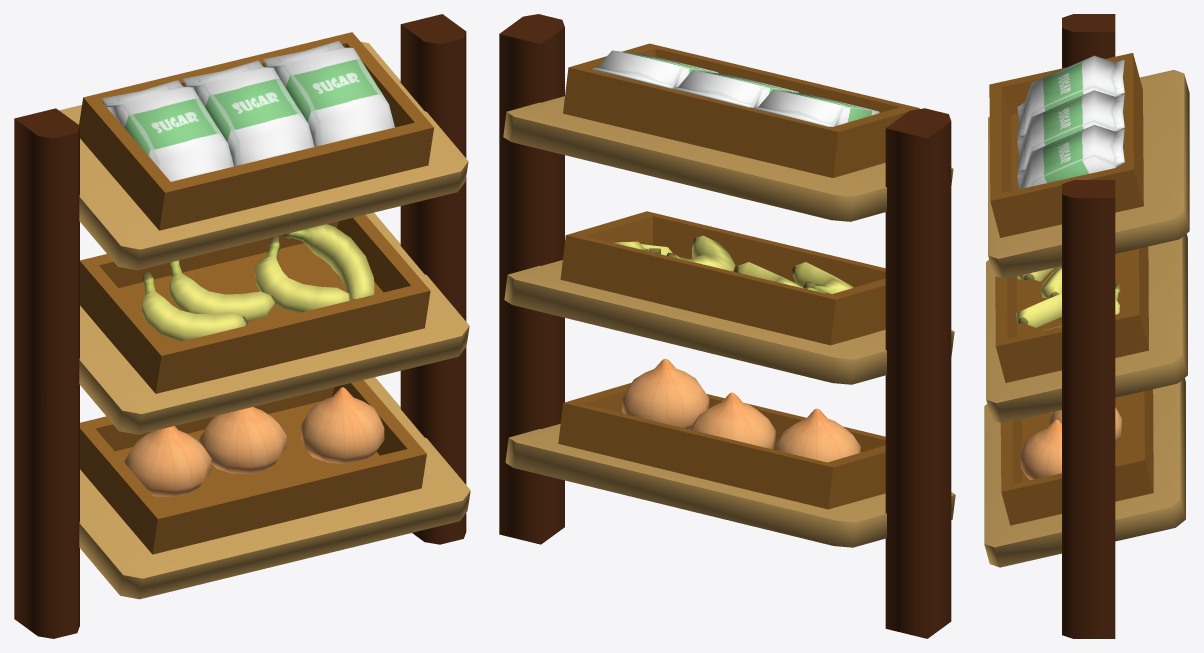
Rendered from storage_banana_sugar_onion.fbx.
The picture shows the model from 3 angles, left to right: view 1: azimuth 30°, elevation 25°; view 2: azimuth 150°, elevation 25°; view 3: azimuth 270°, elevation 25°; orthographic projection. The views are drawn at different scales.
Visible parts, largest first — view 1: Cube.067, sugar, onion.002, banana2; view 2: Cube.067, onion.002, sugar, banana2; view 3: Cube.067, sugar, onion.002, banana2.
Boxes of the visible parts, bbox=[...] form: Cube.067: bbox=[14, 14, 470, 638]; sugar: bbox=[102, 41, 394, 181]; onion.002: bbox=[124, 387, 384, 497]; banana2: bbox=[141, 224, 374, 341]; Cube.067: bbox=[499, 14, 955, 638]; onion.002: bbox=[622, 359, 860, 462]; sugar: bbox=[592, 50, 879, 126]; banana2: bbox=[613, 235, 853, 293]; Cube.067: bbox=[984, 14, 1189, 638]; sugar: bbox=[1017, 55, 1124, 189]; onion.002: bbox=[1020, 407, 1121, 479]; banana2: bbox=[1015, 266, 1120, 330].
Size of the model in its own units: 155 by 173 by 72.94.
